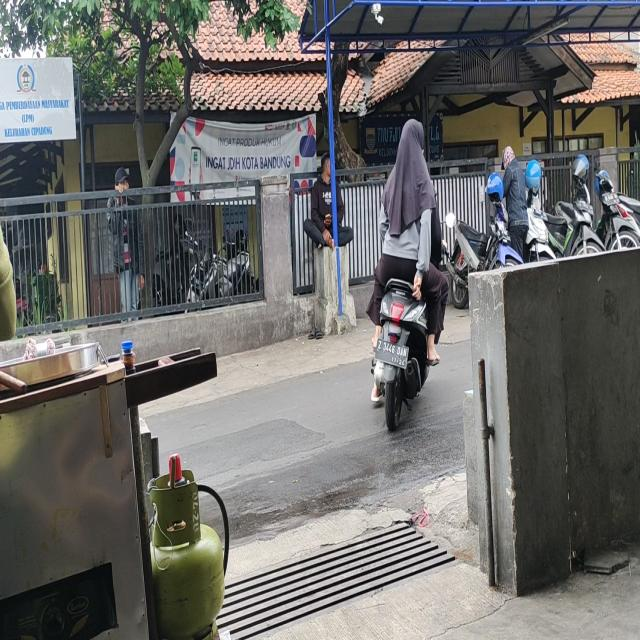no-helmet: (402, 119, 425, 169)
